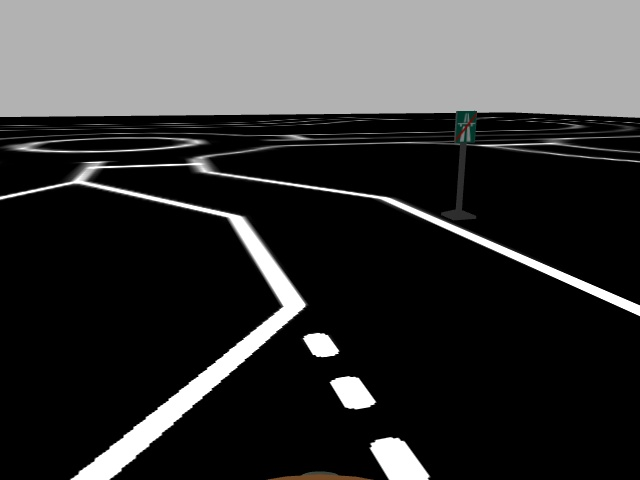leave_highway: (452, 110, 480, 145)
